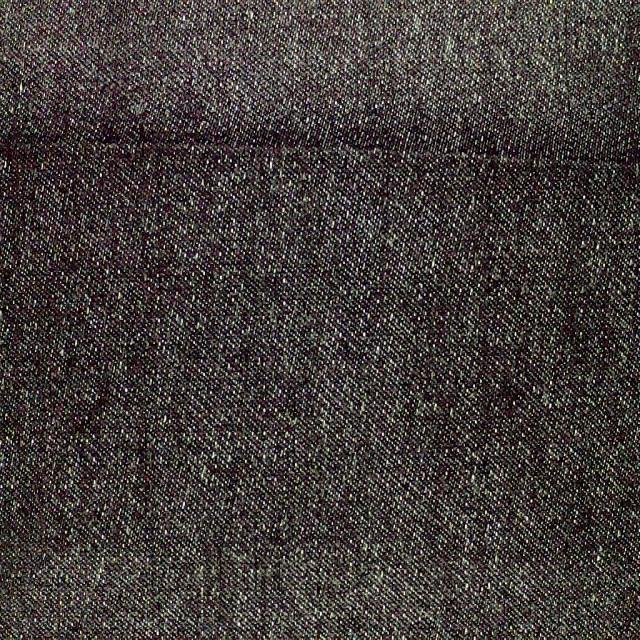Line: (0, 134, 640, 181)
